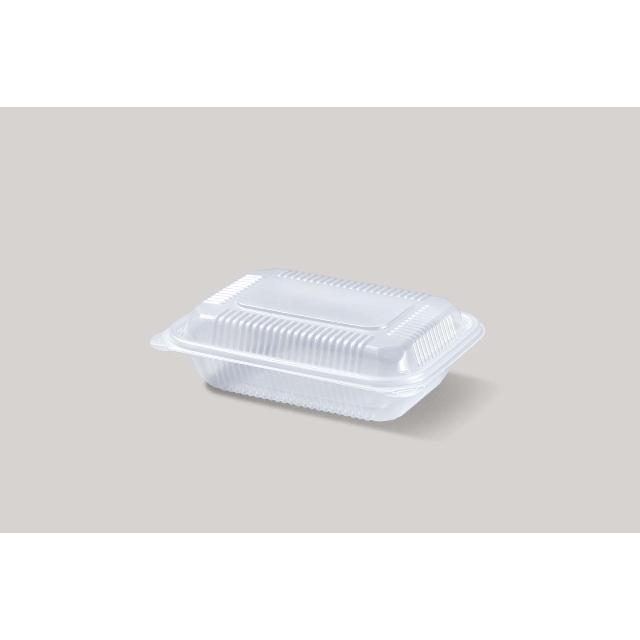Recipiente plastico: (151, 270, 485, 419)
